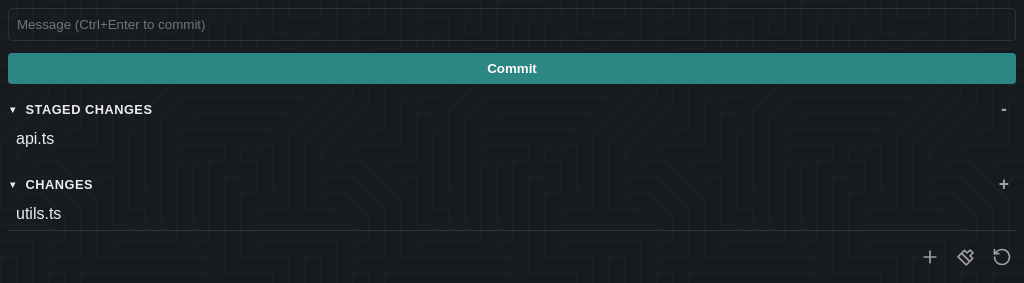
Test: FilesBox Component Tests › UI Interactions › collapses and expands the changes section on header click
Expected: the text "utils.ts" is shown, [16,205,61,222]
Click the button "▼ Changes" at (59, 184), box [8,171,992,198]
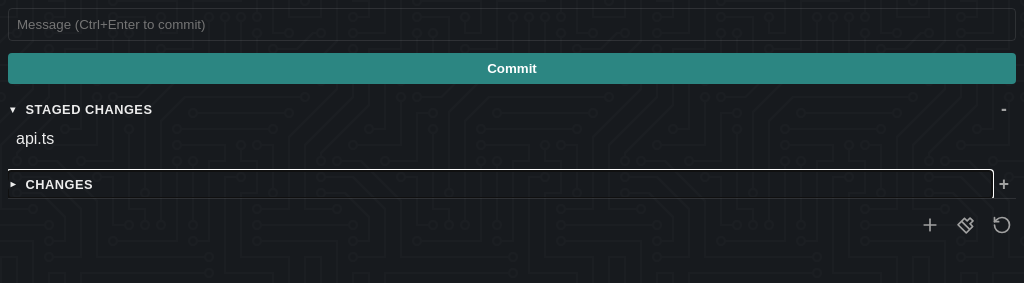
Expected: the text "utils.ts" is gone
Click the button "▼ Changes" at (59, 184), box [8,171,992,198]
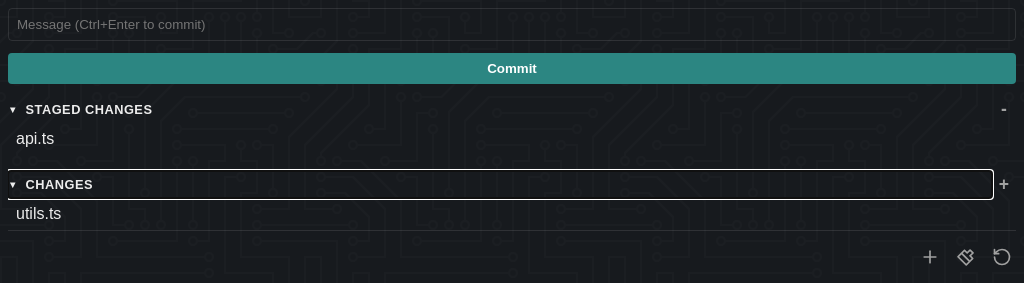
Expected: the text "utils.ts" is shown, [16,205,61,222]
